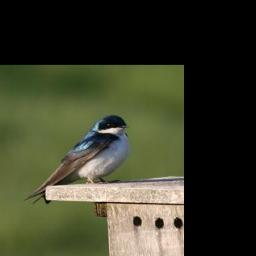Swallow: (23, 113, 132, 209)
